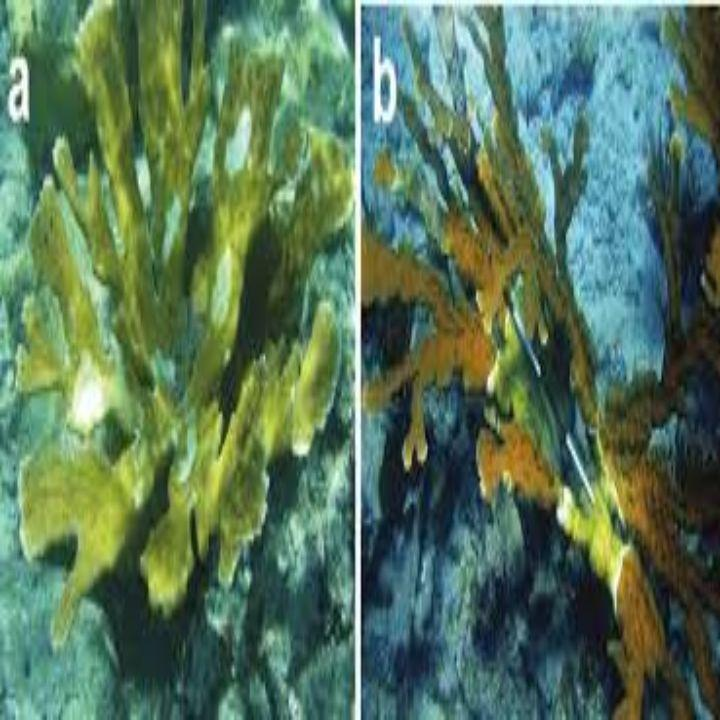White Pox Disease: (50, 219, 296, 570), (460, 292, 654, 614), (204, 111, 276, 204)
